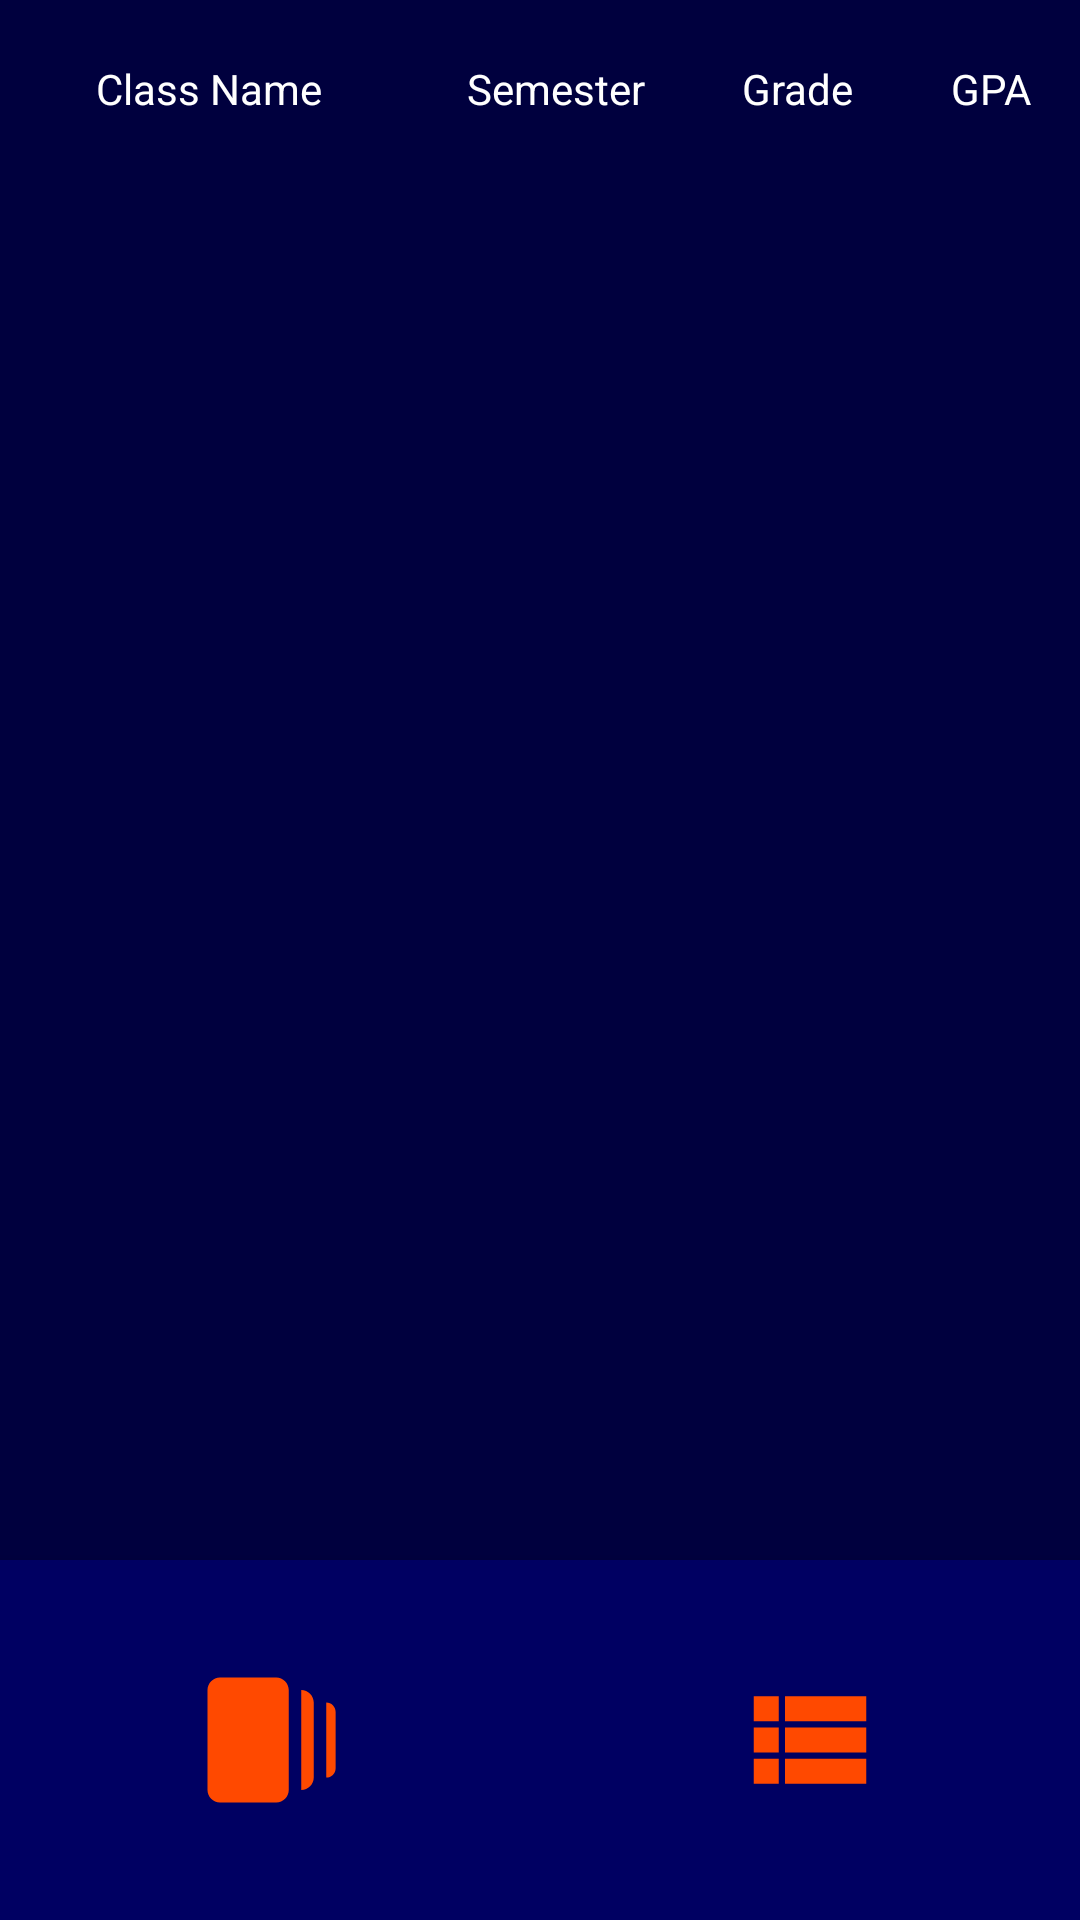

Where icons sit on this 1080px x 1920px app screen, as (x1, y1, x2, y2):
view list: (753, 1696, 867, 1784)
web stories: (207, 1677, 336, 1803)
